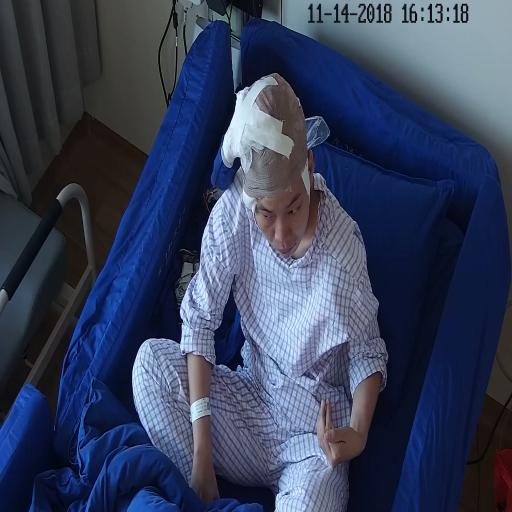Seizure: (246, 115, 315, 258)
